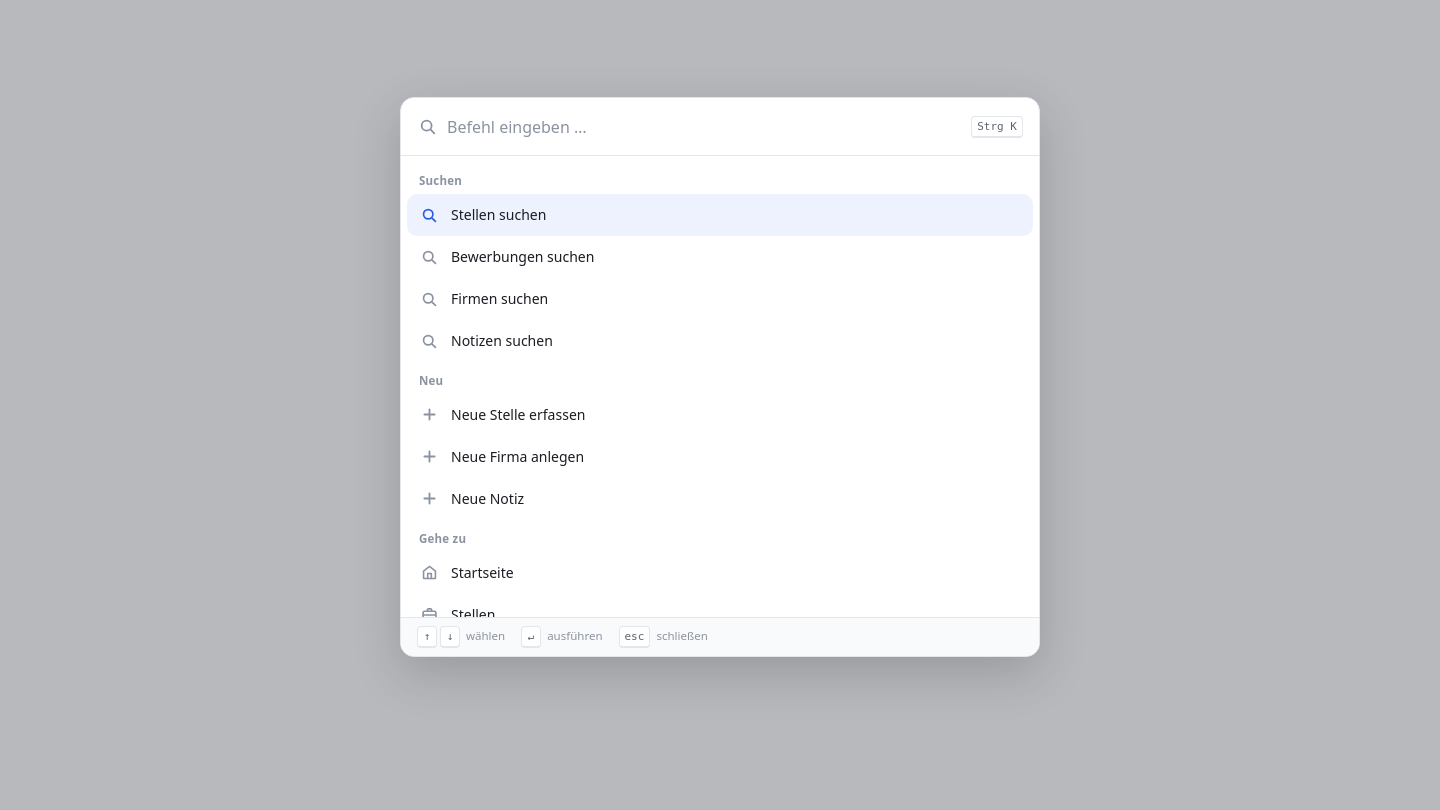
it: CommandPalette › verlässt den Such-Modus mit Escape oder Backspace, erst dann schließt Escape
Type "firmen suchen" into the dropdown named "Befehl oder Suche" at (704, 127), box 447,107 -> 961,147
Then press Enter
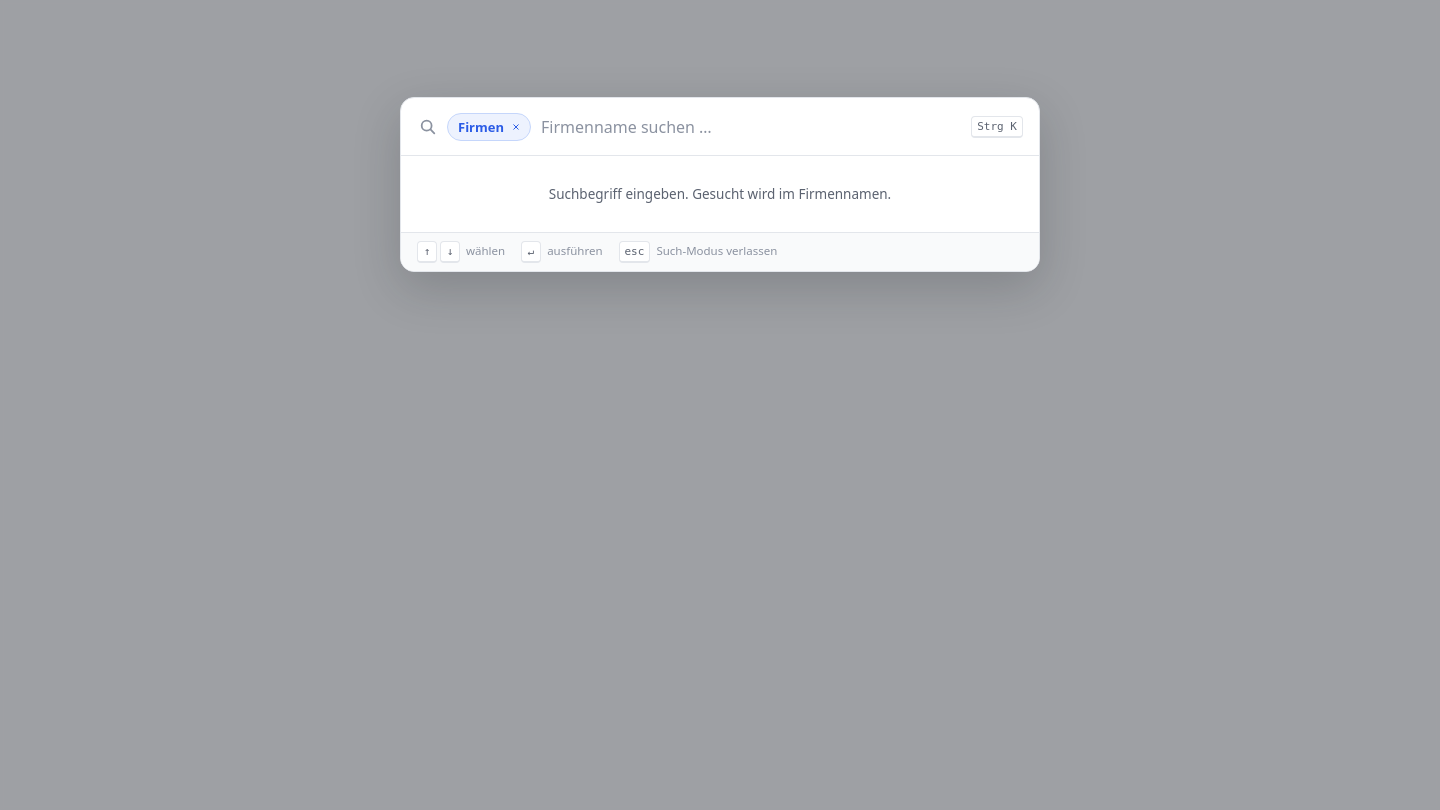
Expected: the dropdown named "Firmen durchsuchen" is shown, 541,107 -> 961,147
Press Backspace
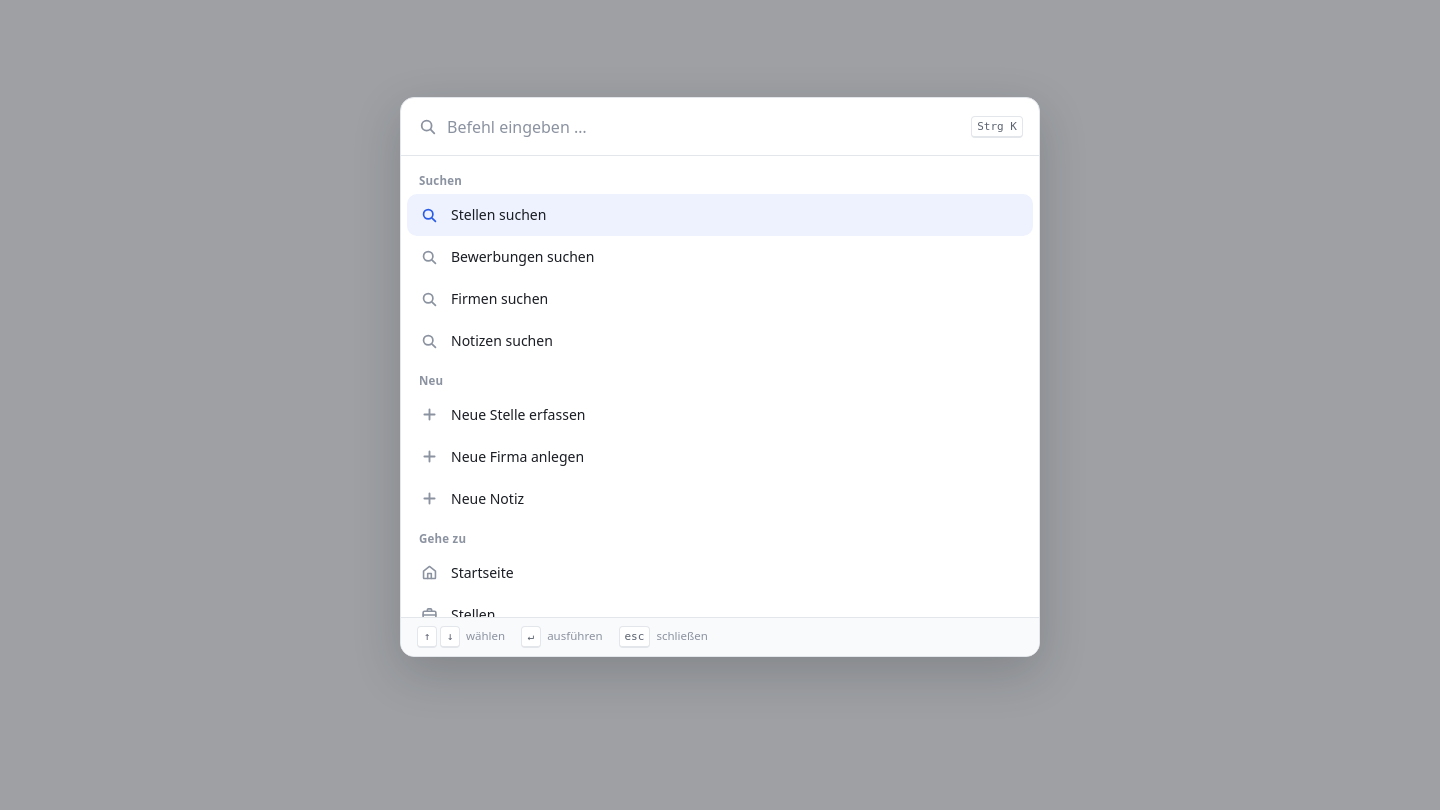
Expected: the dropdown named "Befehl oder Suche" is shown
Type "bewerbungen suchen" into the dropdown at (704, 127), box 447,107 -> 961,147
Then press Enter
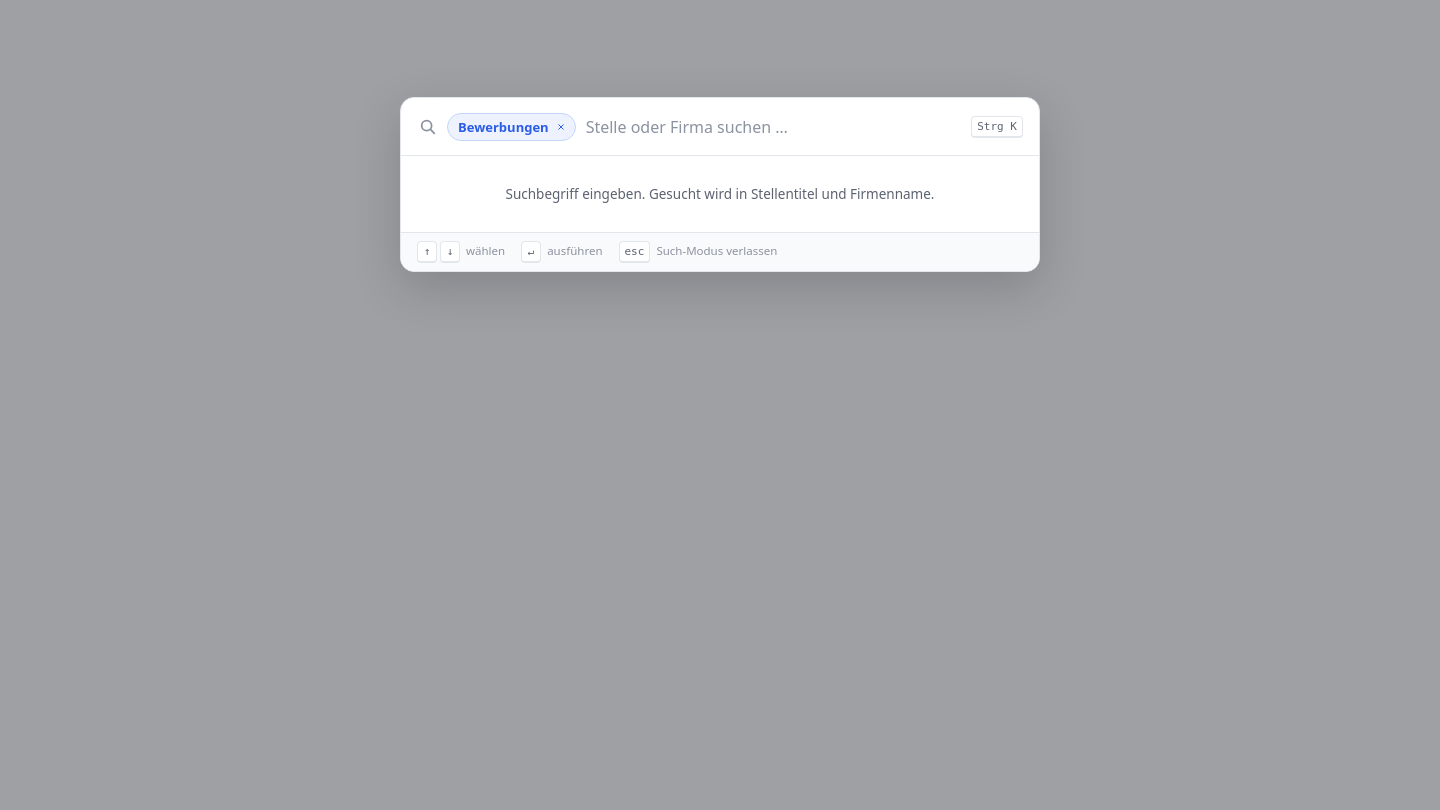
Press Escape
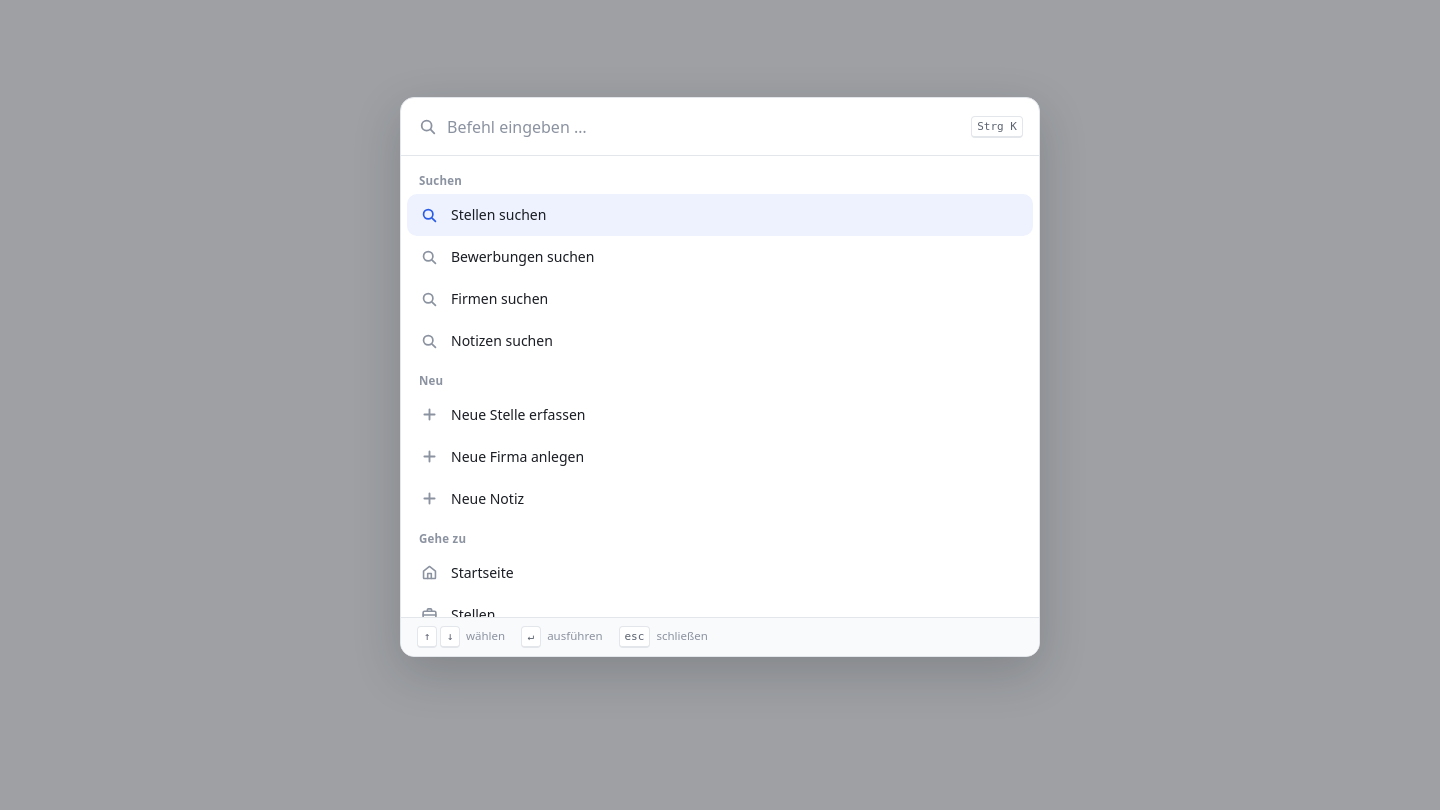
Expected: the dropdown named "Befehl oder Suche" is shown, 447,107 -> 961,147
